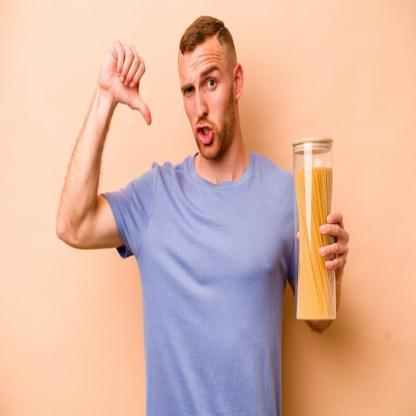thumb_down: (98, 35, 154, 130)
